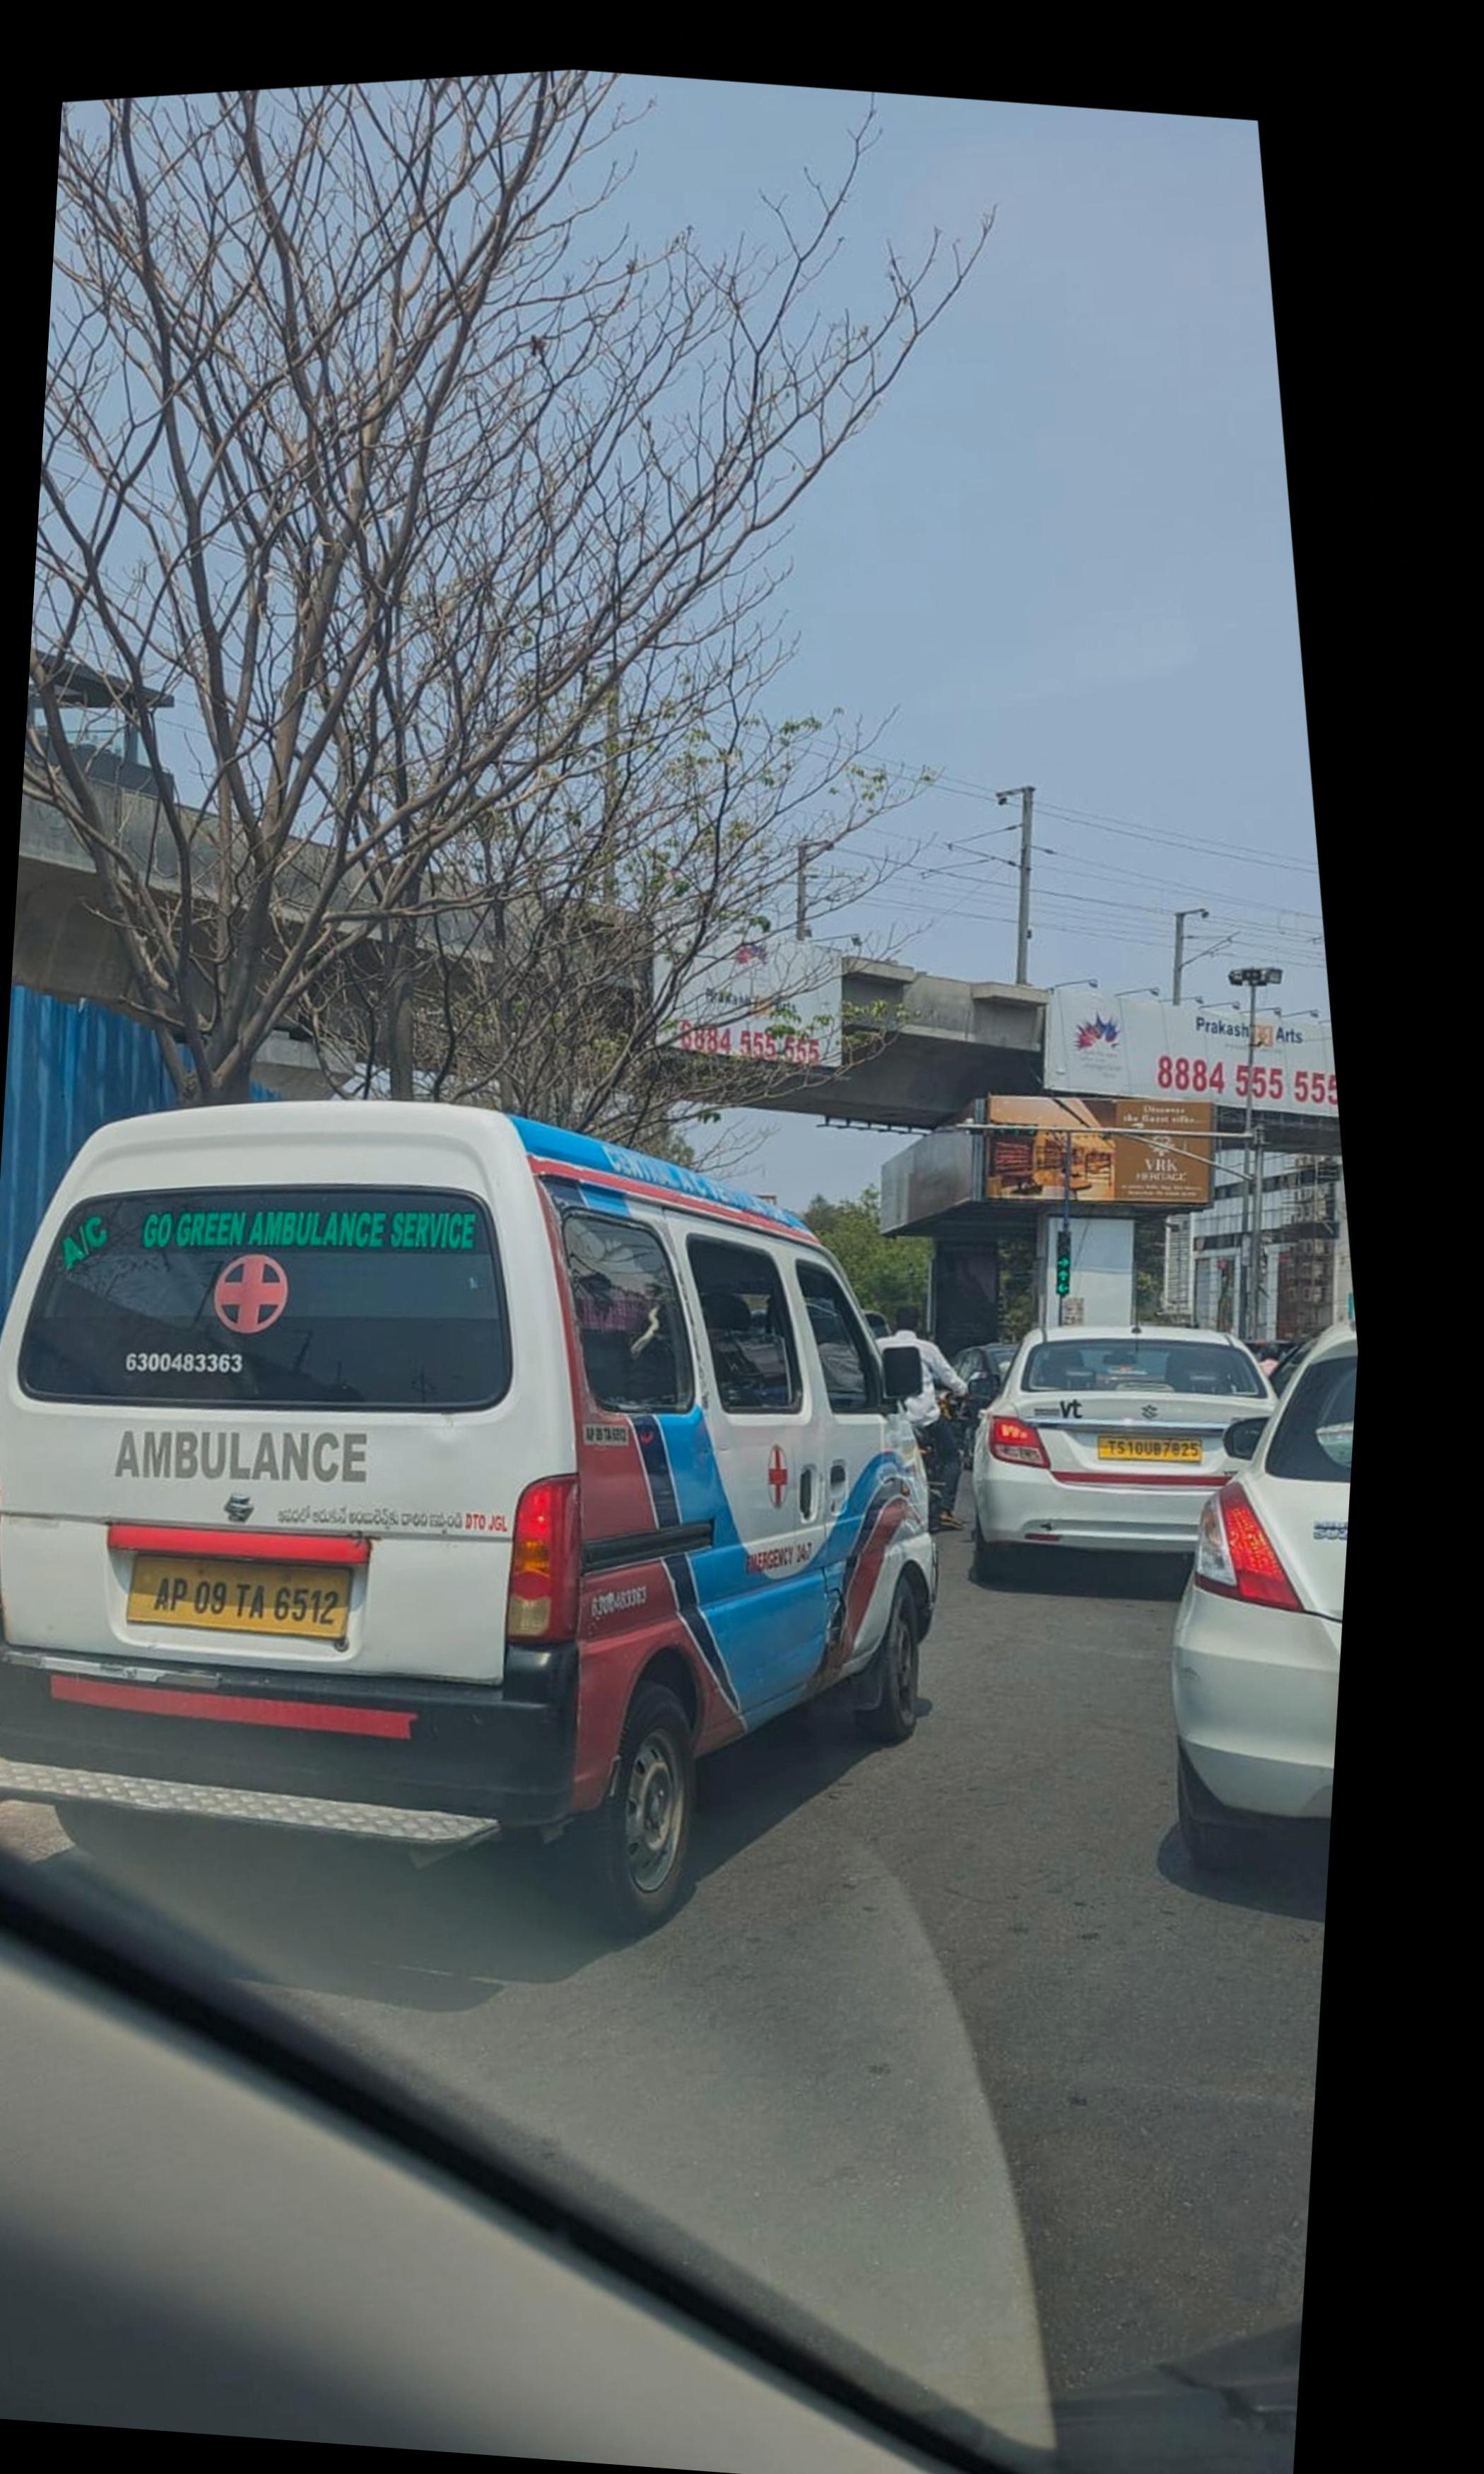ambulance: (0, 1097, 935, 1930)
